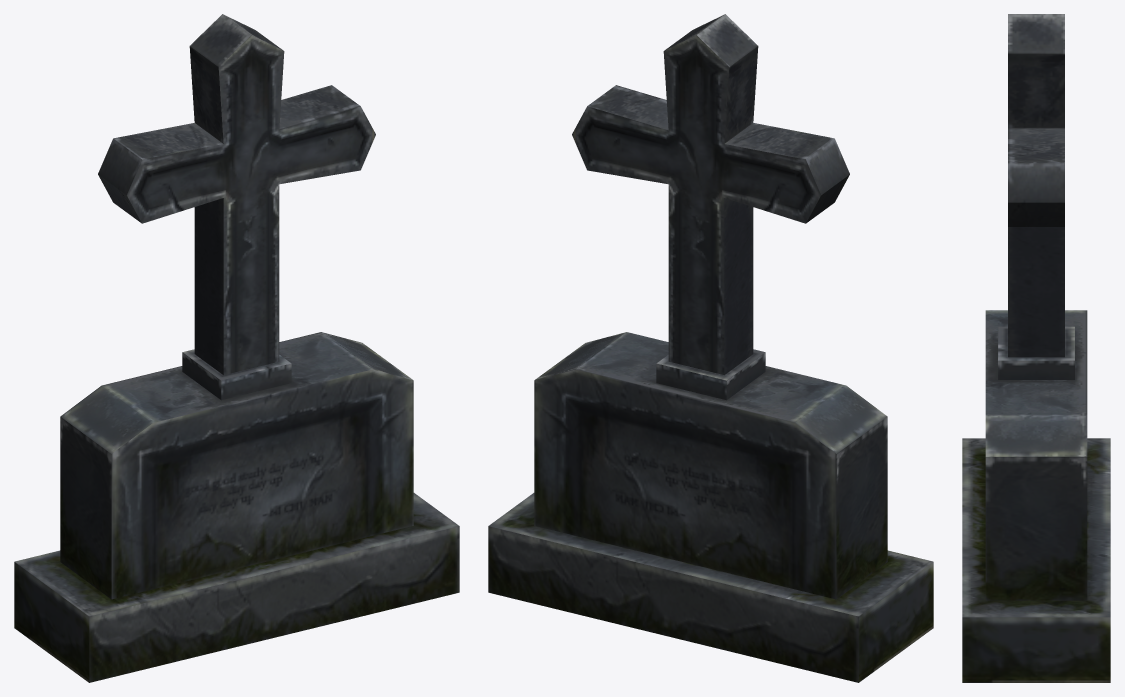
Rendered from C_mubei009.fbx.
3 views of the same model, side by side, from view 1: azimuth 30°, elevation 25°; view 2: azimuth 150°, elevation 25°; view 3: azimuth 270°, elevation 25° (orthographic).
Parts seen in each view (by area): view 1: C_mubei009; view 2: C_mubei009; view 3: C_mubei009.
Boxes of the visible parts, left/top/right/bottom form: C_mubei009: left=14, top=14, right=459, bottom=682; C_mubei009: left=488, top=14, right=933, bottom=682; C_mubei009: left=962, top=14, right=1110, bottom=682.
Bounding box in the file's own units: 128 × 194 × 44.91.
